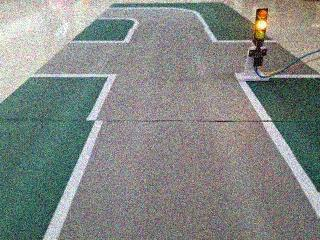yellow: (244, 1, 277, 48)
